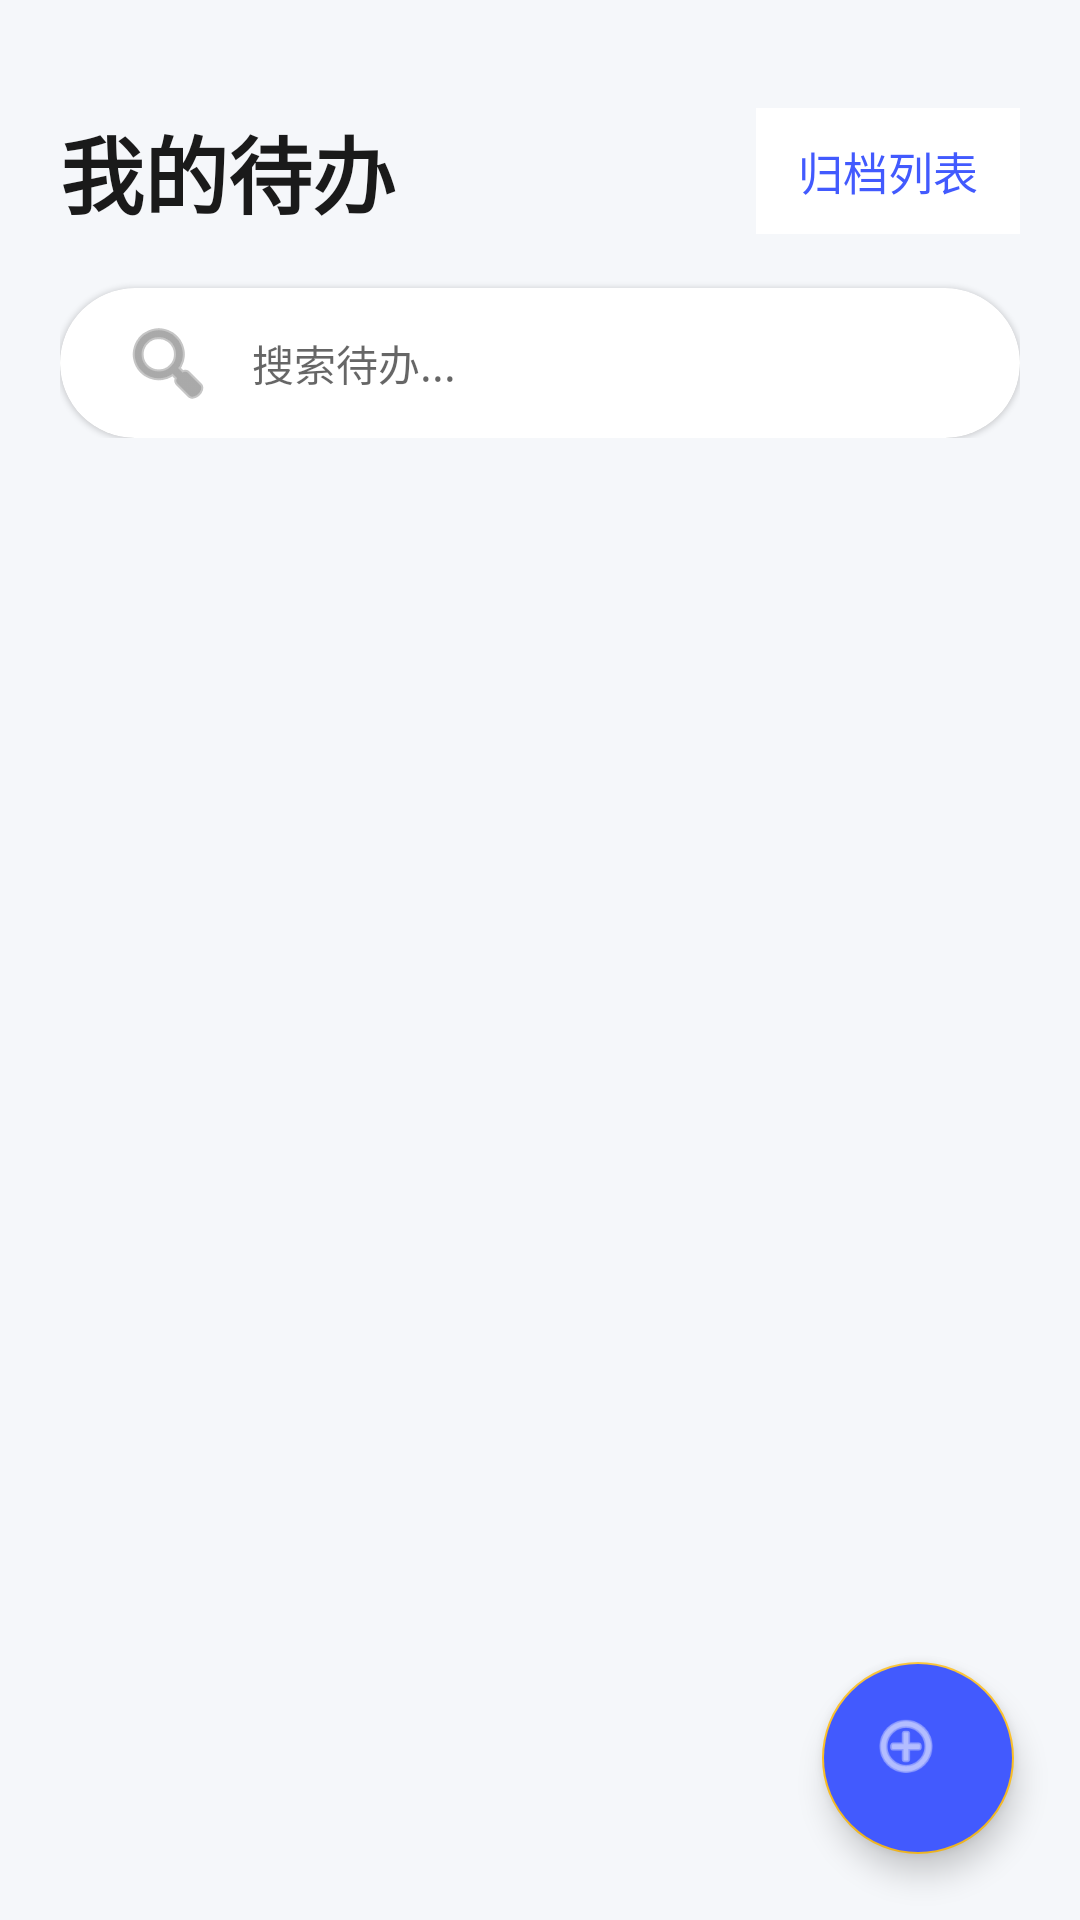

Where to tap for icons on this 1080px x 1920px app screen, as [x,y]:
add: [918,1758]
